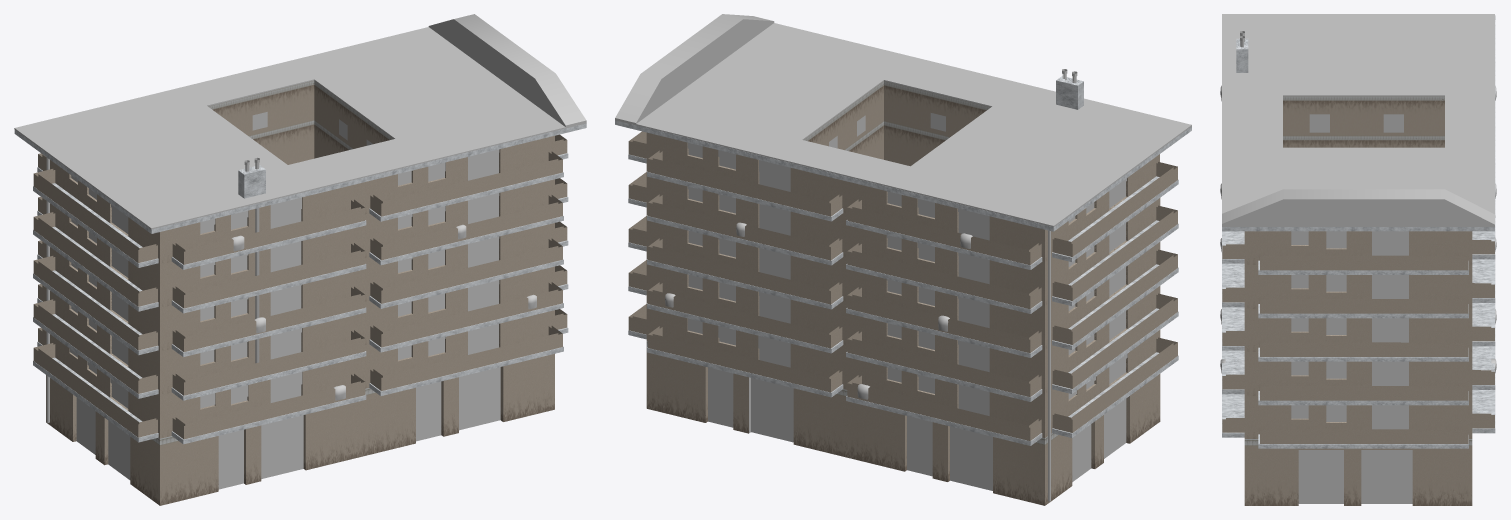
The model's file is building5_lod1.FBX.
3 renders of one model, left to right at view 1: azimuth 30°, elevation 25°; view 2: azimuth 150°, elevation 25°; view 3: azimuth 270°, elevation 25°, orthographic.
Visible parts, largest first — view 1: building5_lod1, building5_roof_lod001, building5_transparent_lod001; view 2: building5_lod1, building5_roof_lod001, building5_transparent_lod001; view 3: building5_lod1, building5_roof_lod001.
Part boxes in pixels (x1,y1,x2,y2): building5_lod1: (14,80,586,505); building5_roof_lod001: (14,14,586,229); building5_transparent_lod001: (232,224,536,400); building5_lod1: (615,69,1191,505); building5_roof_lod001: (615,14,1191,227); building5_transparent_lod001: (665,222,972,399); building5_lod1: (1222,15,1495,505); building5_roof_lod001: (1222,14,1494,226).
Bounding box in the file's own units: 3437 × 2449 × 1898.
